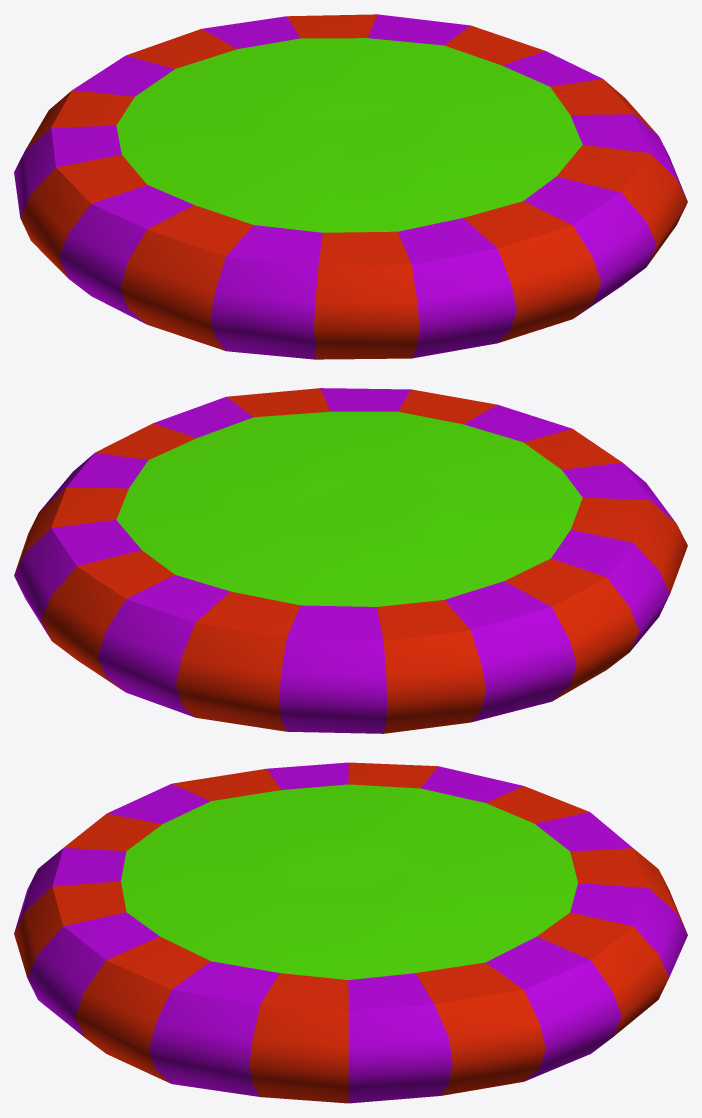
Rendered from Casino_Props_JetonPoker.fbx.
3 renders of one model, top to bottom at view 1: azimuth 30°, elevation 25°; view 2: azimuth 150°, elevation 25°; view 3: azimuth 270°, elevation 25°, orthographic.
Visible parts, largest first — view 1: polySurface1; view 2: polySurface1; view 3: polySurface1.
Boxes of the visible parts, <box> form: polySurface1: <box>14,14,687,359</box>; polySurface1: <box>14,388,687,733</box>; polySurface1: <box>14,762,687,1103</box>.
Size of the model in its own units: 220 by 42.73 by 224.
